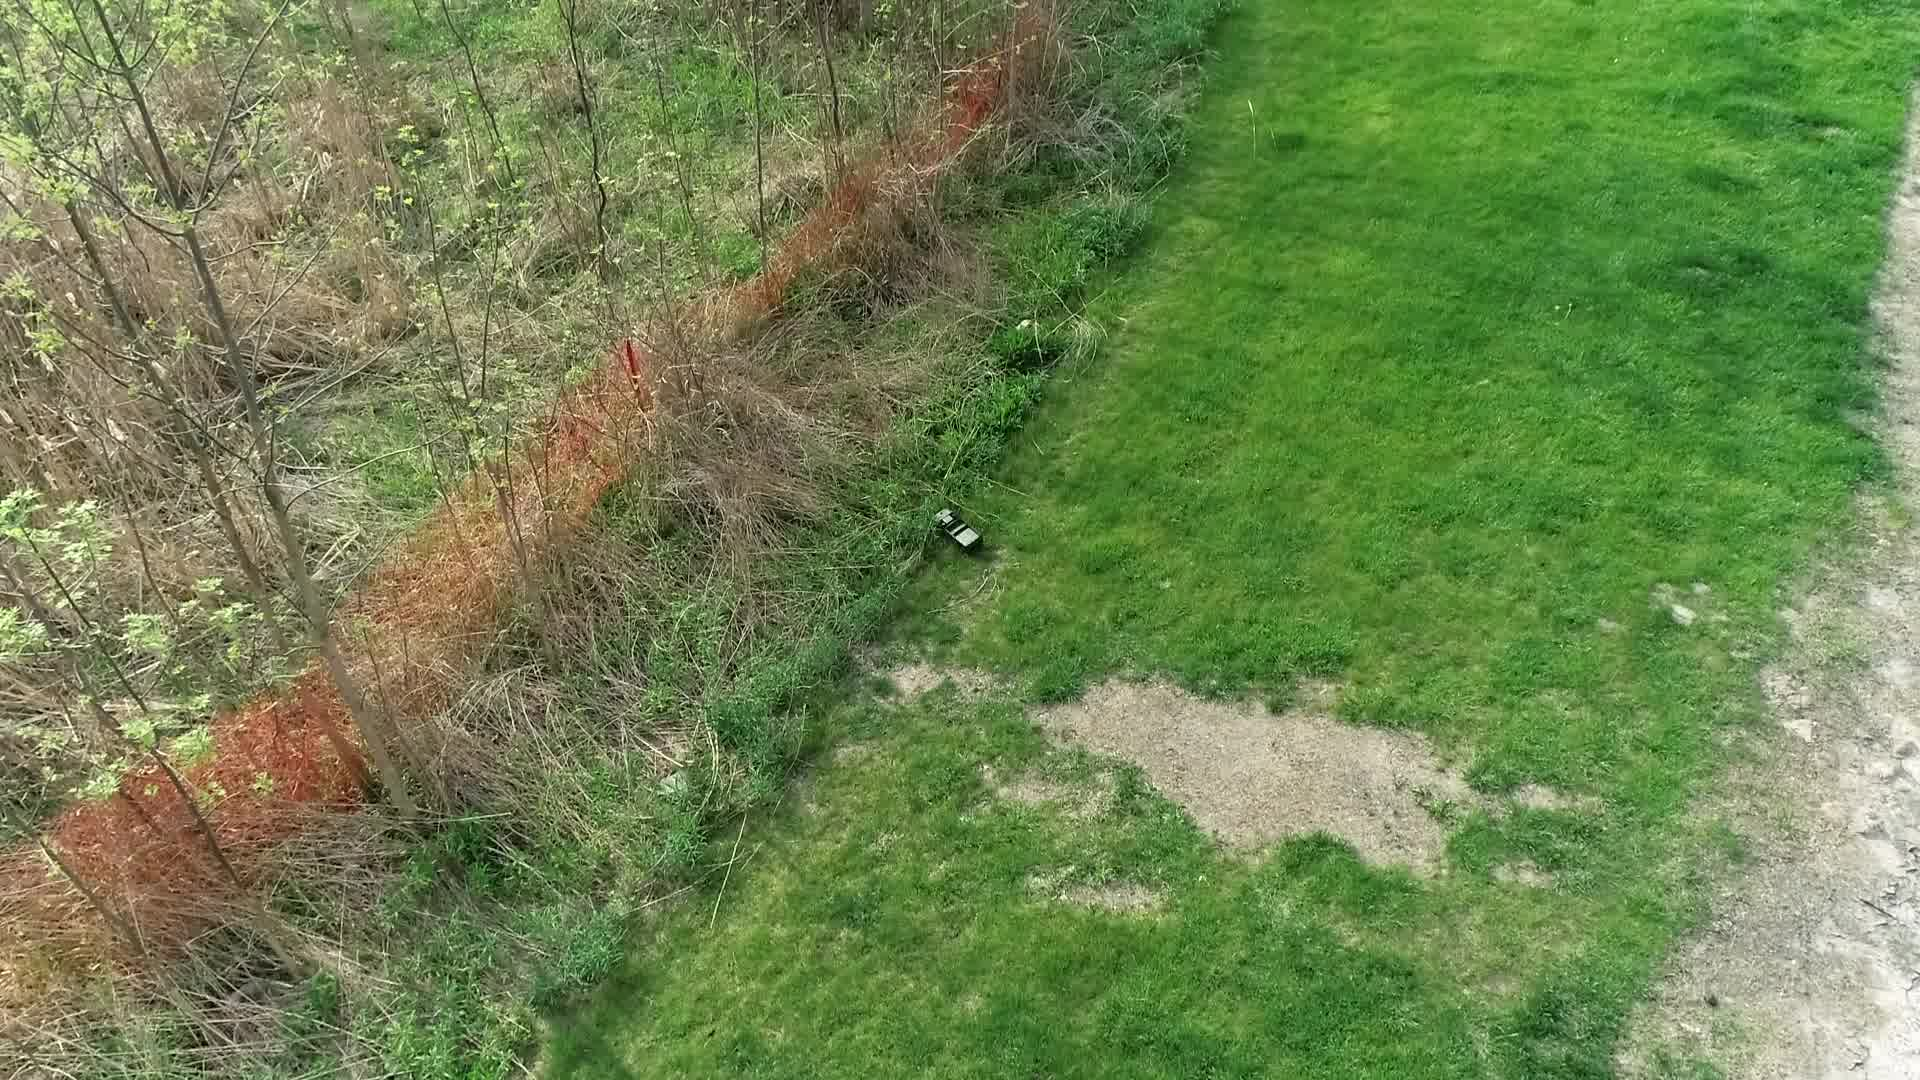transporter9: (934, 506, 985, 553)
